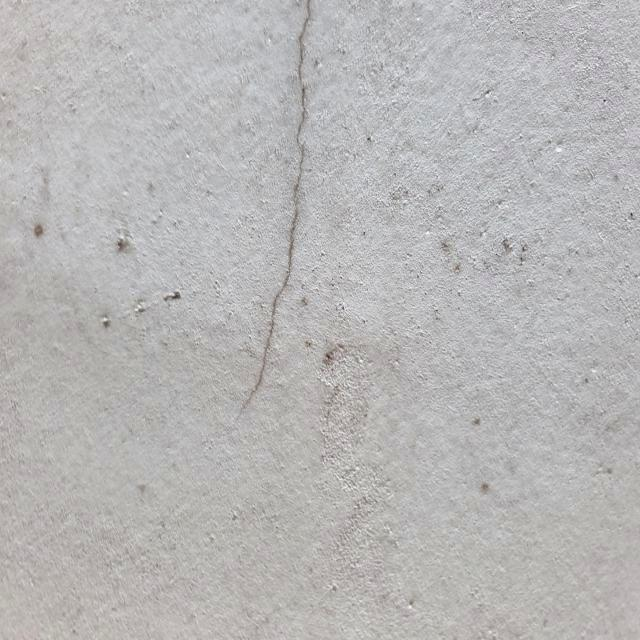SurfaceCrack: (194, 1, 356, 639)
